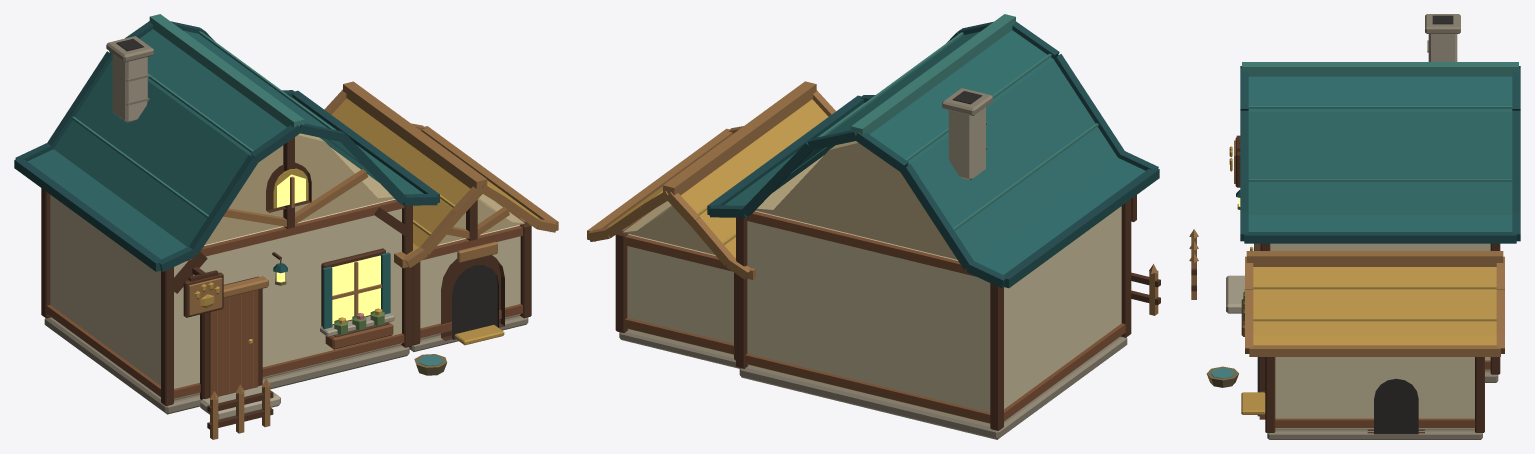
The model's file is kennel.glb.
3 renders of one model, left to right at view 1: azimuth 30°, elevation 25°; view 2: azimuth 150°, elevation 25°; view 3: azimuth 270°, elevation 25°, orthographic. The views are drawn at different scales.
Visible parts, largest first — view 1: kennel; view 2: kennel; view 3: kennel.
Boxes of the visible parts, left/top/right/bottom form: kennel: left=14, top=14, right=558, bottom=439; kennel: left=587, top=14, right=1160, bottom=439; kennel: left=1189, top=14, right=1520, bottom=439.
Bounding box in the file's own units: 9.06 × 6.17 × 6.69.
